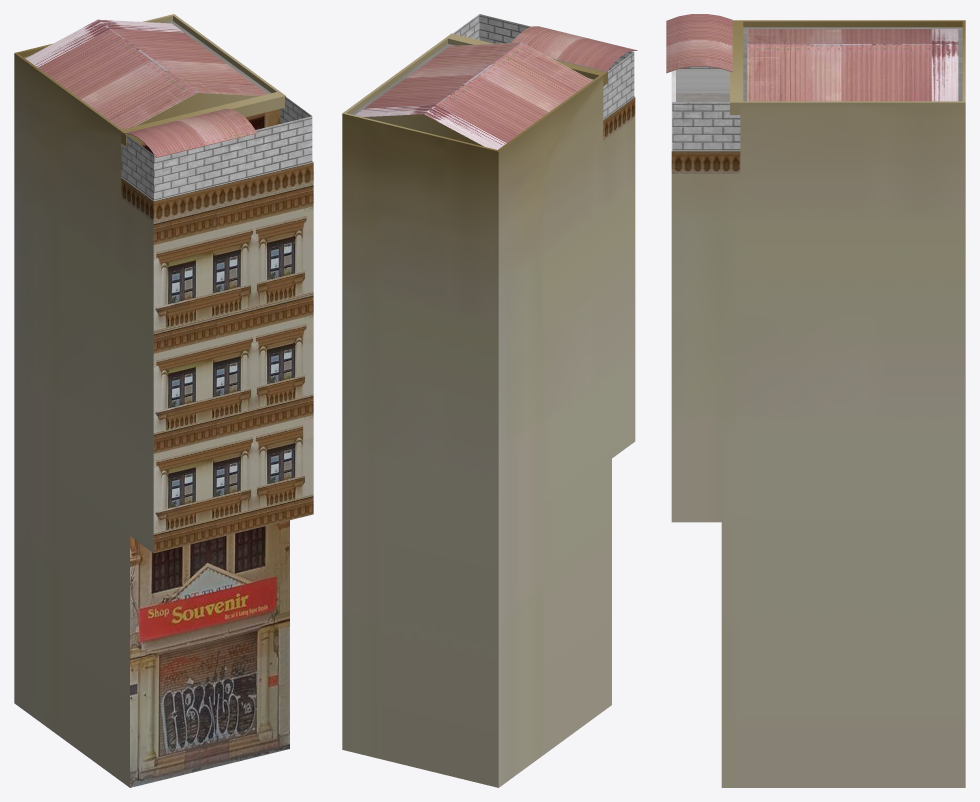
The picture shows the model from 3 angles, left to right: view 1: azimuth 30°, elevation 25°; view 2: azimuth 150°, elevation 25°; view 3: azimuth 270°, elevation 25°; orthographic projection. The views are drawn at different scales.
Parts seen in each view (by area): view 1: HN1021___Shop_Souvenir; view 2: HN1021___Shop_Souvenir; view 3: HN1021___Shop_Souvenir.
Part boxes in pixels (<box>): HN1021___Shop_Souvenir: <box>14,14,313,787</box>; HN1021___Shop_Souvenir: <box>342,14,637,787</box>; HN1021___Shop_Souvenir: <box>666,14,965,787</box>.
Bounding box in the file's own units: 3.83 × 15.25 × 5.89.
Materials: 1 (1 with a texture image).
